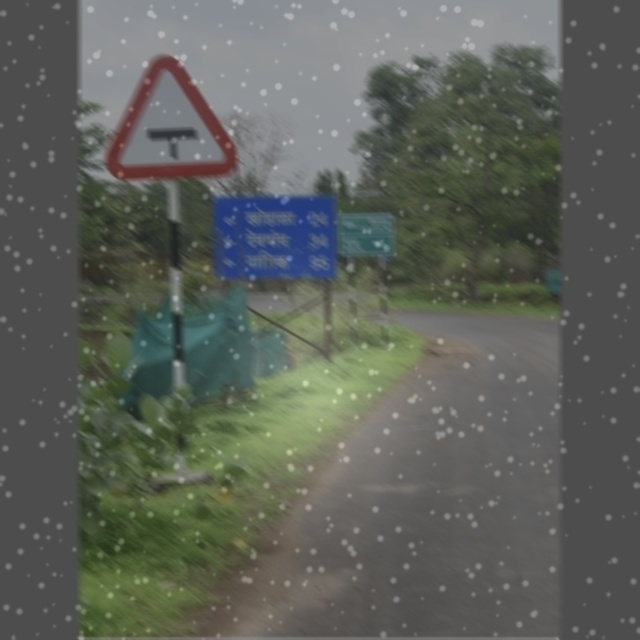T_Intersection: (105, 44, 245, 189)
